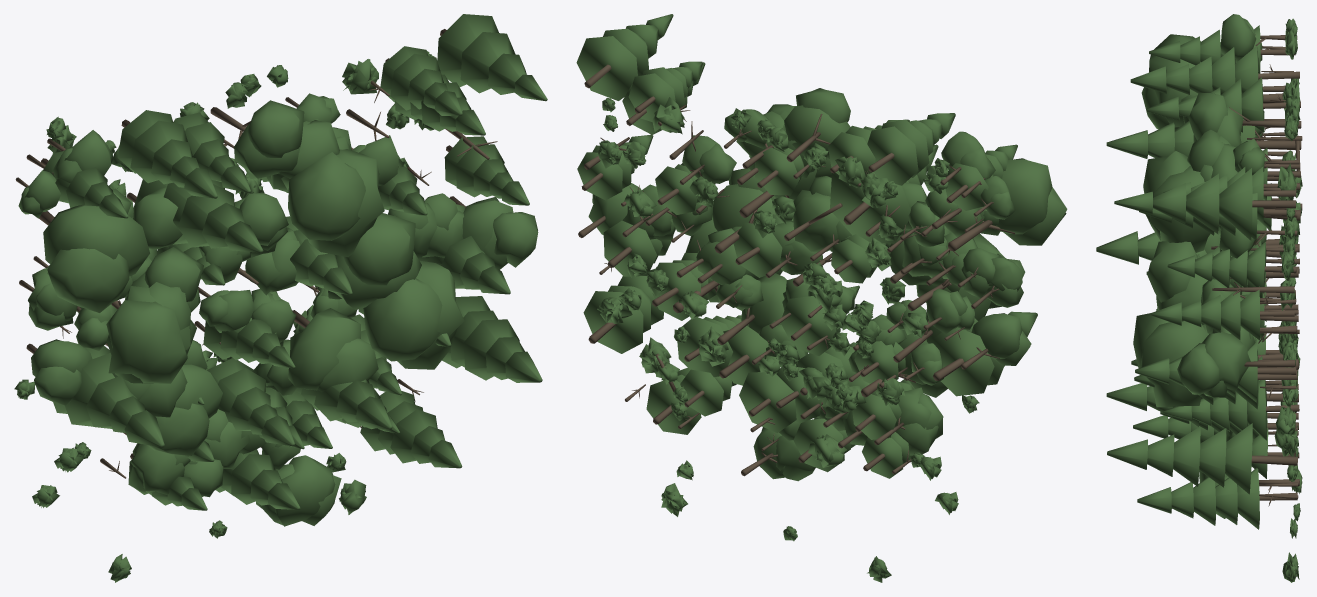
Rendered from batch_VEG_n002_p002.glb.
3 views of the same model, side by side, from view 1: azimuth 30°, elevation 25°; view 2: azimuth 150°, elevation 25°; view 3: azimuth 270°, elevation 25° (orthographic). The views are drawn at different scales.
Parts seen in each view (by area): view 1: SAR_Bush_0216.001; view 2: SAR_Bush_0216.001; view 3: SAR_Bush_0216.001.
Part boxes in pixels (x1=…): SAR_Bush_0216.001: x1=14, y1=14, x2=547, y2=582; SAR_Bush_0216.001: x1=576, y1=14, x2=1067, y2=582; SAR_Bush_0216.001: x1=1096, y1=14, x2=1302, y2=582.
Bounding box in the file's own units: 57.5 × 55.19 × 21.97.
